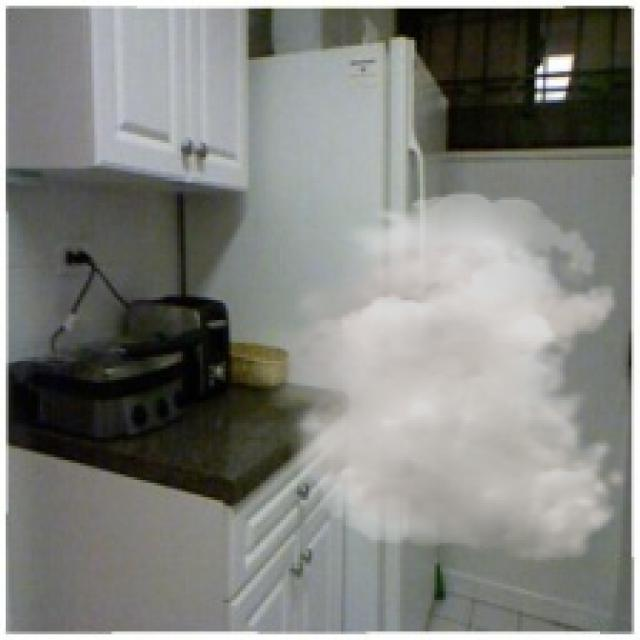smoke: (240, 191, 629, 563)
